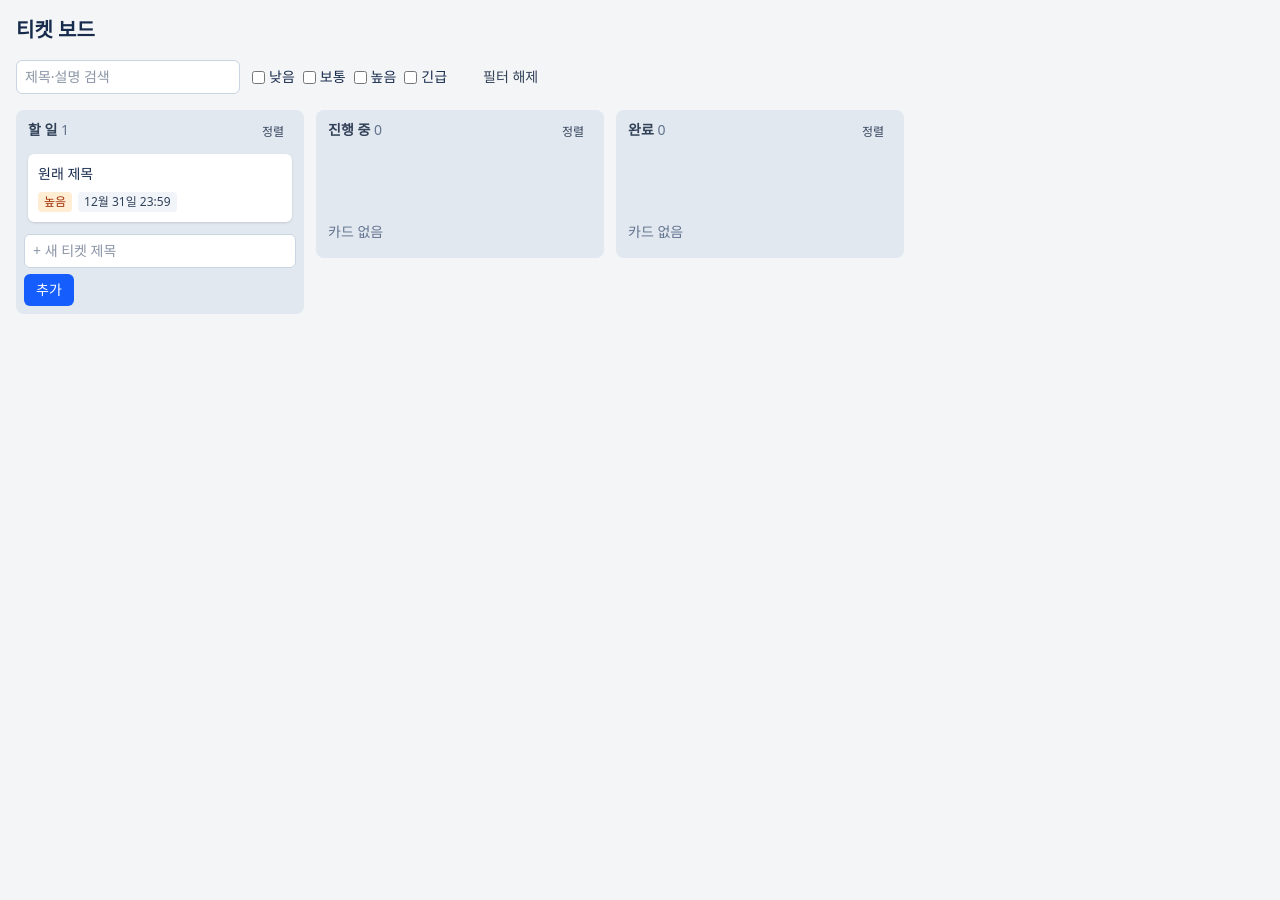
티켓 상세 모달 (UI-C08) › TC-UI-016: 서버 VALIDATION_FAILED의 필드별 사유를 해당 필드에 표시한다
This screenshot has width=1280, height=900.
Step 1. Click the text "원래 제목" → (66, 174), box 38,164 -> 93,184
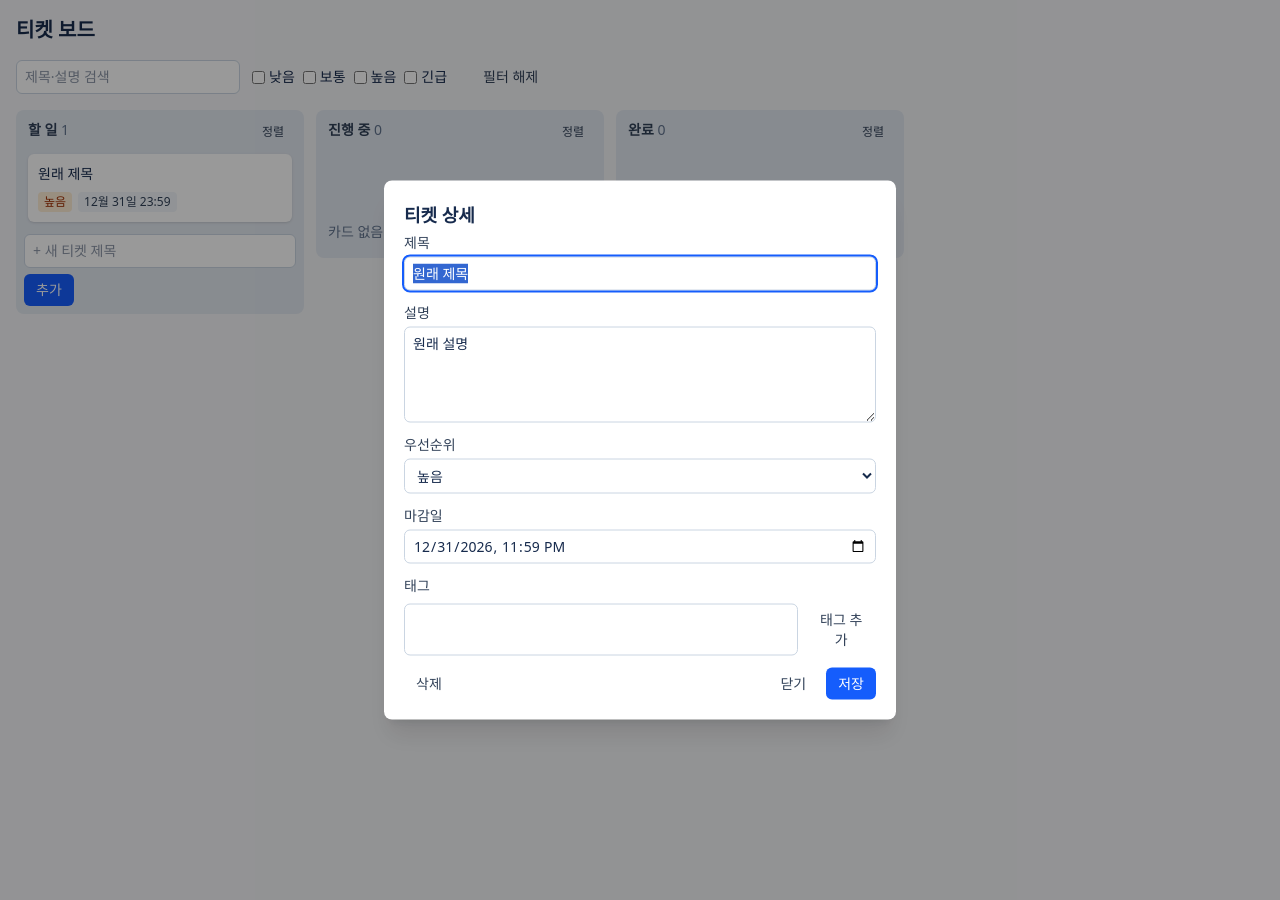
Step 2. Type "!" into the field labelled "제목" → (640, 274), box 404,256 -> 876,290
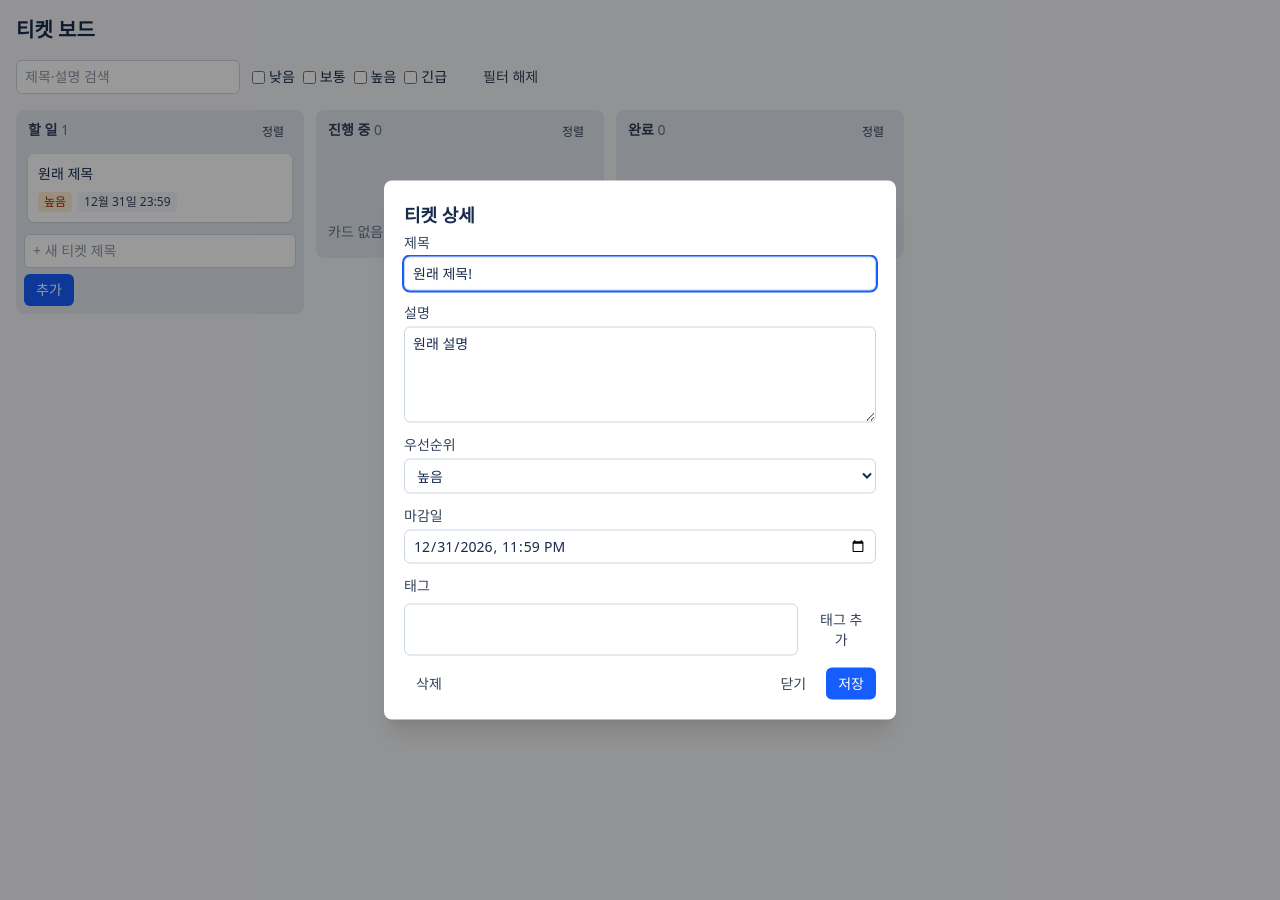
Step 3. Click the button "저장" → (851, 684), box 826,668 -> 876,700
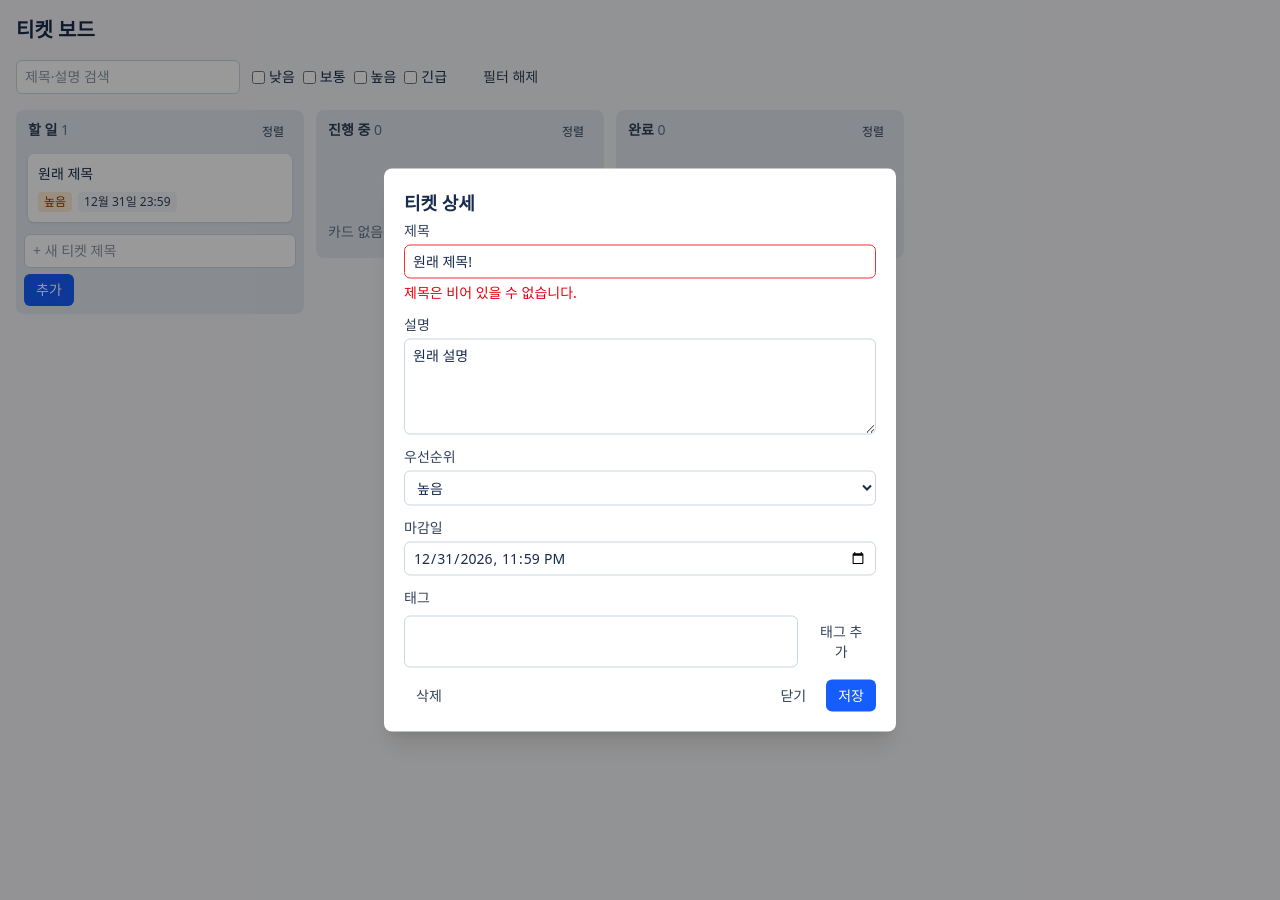
Expected: the dialog is shown, 384,168 -> 896,732
Expected: the text "제목은 비어 있을 수 없습니다." is shown, 404,282 -> 577,302
